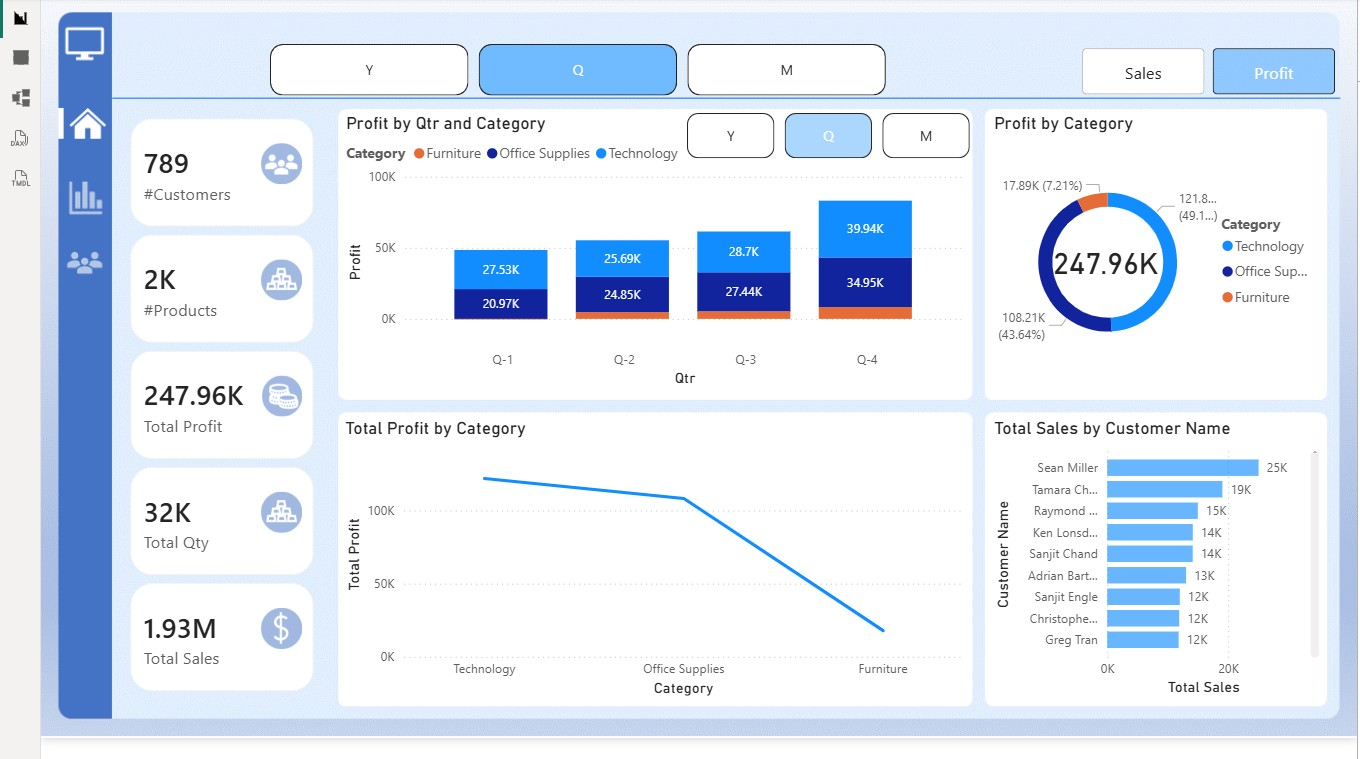

The page's visual inventory and layout, read from the dashboard file:
{"tool":"powerbi","page":{"name":"Page 1","canvas":[1280,720],"ordinal":0},"visuals":[{"type":"cardVisual","fields":{"Data":["Measuress.#Customers","Measuress.#Products","Measuress.Total Profit","Measuress.Total Qty","Measuress.Total Sales"]},"box":[70.2,99.9,212.9,594.8],"z":0},{"type":"columnChart","fields":{"Y":["Measuress.Total Profit"],"Series":["Dim Product.Category"],"Category":["DimDate.Year Hierarchy.Year","DimDate.Year Hierarchy.Qtr","DimDate.Year Hierarchy.Month"]},"box":[291.4,111.8,611.4,271.2],"z":1000},{"type":"advancedSlicerVisual","fields":{"Values":["Parameter.Parameter"]},"box":[1007.6,44,257,55.9],"z":2000},{"type":"donutChart","fields":{"Y":["Measuress.Total Profit"],"Category":["Dim Product.Category"]},"box":[921.9,111.8,325.9,271.2],"z":3000},{"type":"card","fields":{"Values":["Measuress.Total Profit"]},"box":[955.2,205.8,160.6,101.1],"z":4000},{"type":"clusteredBarChart","fields":{"Y":["Measuress.Total Sales"],"Category":["Dim Customer.Customer Name"]},"box":[921.9,408,325.9,274.8],"z":5000},{"type":"bookmarkNavigator","box":[627.8,111.6,276,44.3],"z":6000},{"type":"bookmarkNavigator","box":[223.1,44.3,600.7,50.1],"z":7000},{"type":"lineChart","fields":{"Category":["Dim Product.Category"],"Y":["Measuress.Total Profit"]},"box":[290.8,408.5,610.8,275.3],"z":7001}]}

Visuals, with their boxes on the page's 1280x720 design canvas (x1, y1, x2, y2). These are canvas units, not pixel positions in the 1360x759 screenshot, which may show the page scaled, cropped or inside an application window:
cardVisual - Measuress.#Customers x Measuress.#Products: [70, 100, 283, 695]
columnChart - Measuress.Total Profit x Dim Product.Category: [291, 112, 903, 383]
advancedSlicerVisual - Parameter.Parameter: [1008, 44, 1265, 100]
donutChart - Measuress.Total Profit x Dim Product.Category: [922, 112, 1248, 383]
card - Measuress.Total Profit: [955, 206, 1116, 307]
clusteredBarChart - Measuress.Total Sales x Dim Customer.Customer Name: [922, 408, 1248, 683]
bookmarkNavigator: [628, 112, 904, 156]
bookmarkNavigator: [223, 44, 824, 94]
lineChart - Dim Product.Category x Measuress.Total Profit: [291, 408, 902, 684]
